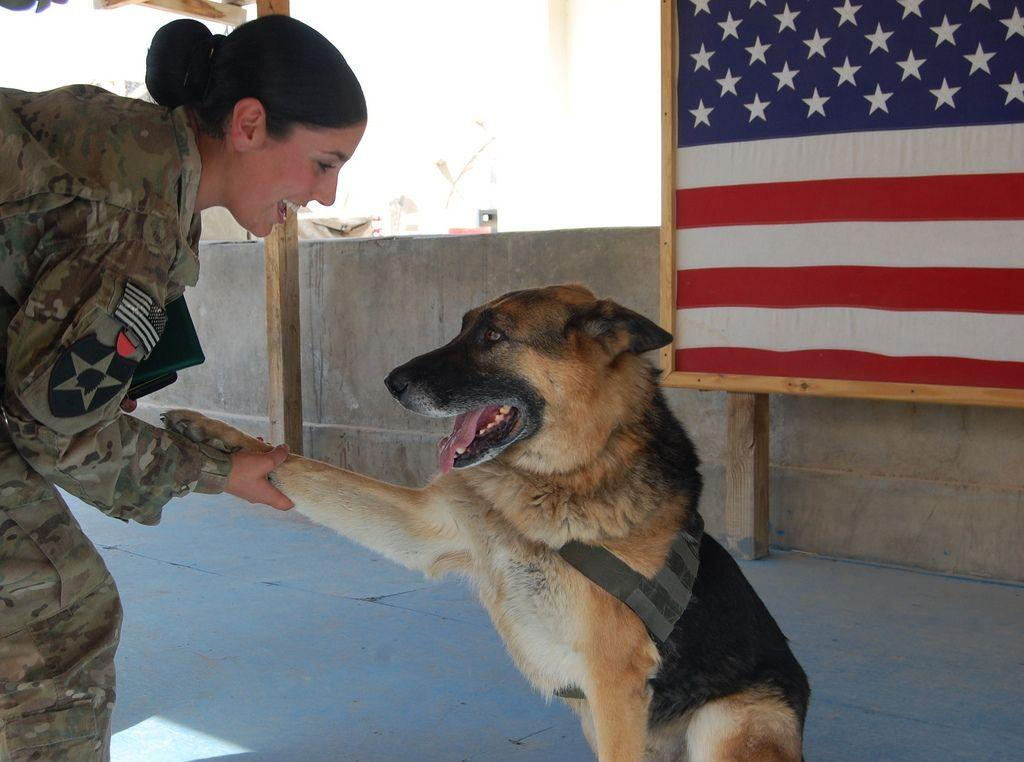face: (254, 110, 364, 236)
